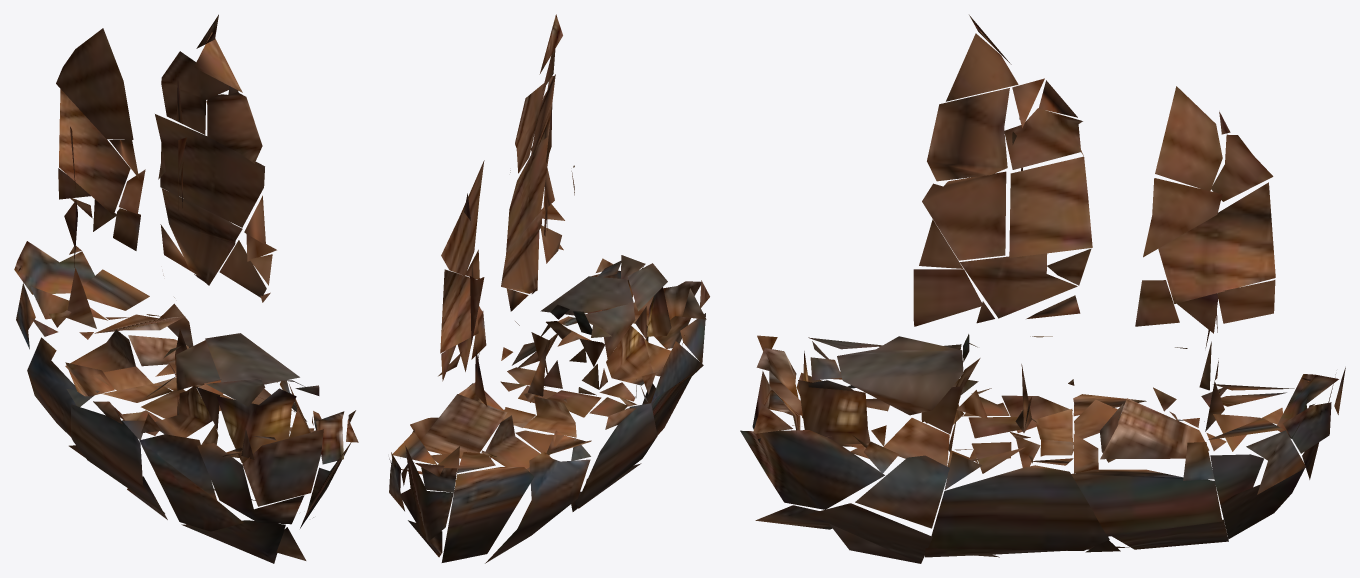
The model's file is boat.glb.
3 views of the same model, side by side, from view 1: azimuth 30°, elevation 25°; view 2: azimuth 150°, elevation 25°; view 3: azimuth 270°, elevation 25° (orthographic). The views are drawn at different scales.
Visible parts, largest first — view 1: x-boat; view 2: x-boat; view 3: x-boat.
Boxes of the visible parts, bbox=[...] form: x-boat: bbox=[14, 14, 358, 563]; x-boat: bbox=[389, 14, 709, 563]; x-boat: bbox=[740, 15, 1345, 563].
Size of the model in its own units: 0.0763 by 0.2138 by 0.2177.
Materials: 1 (1 with a texture image).
